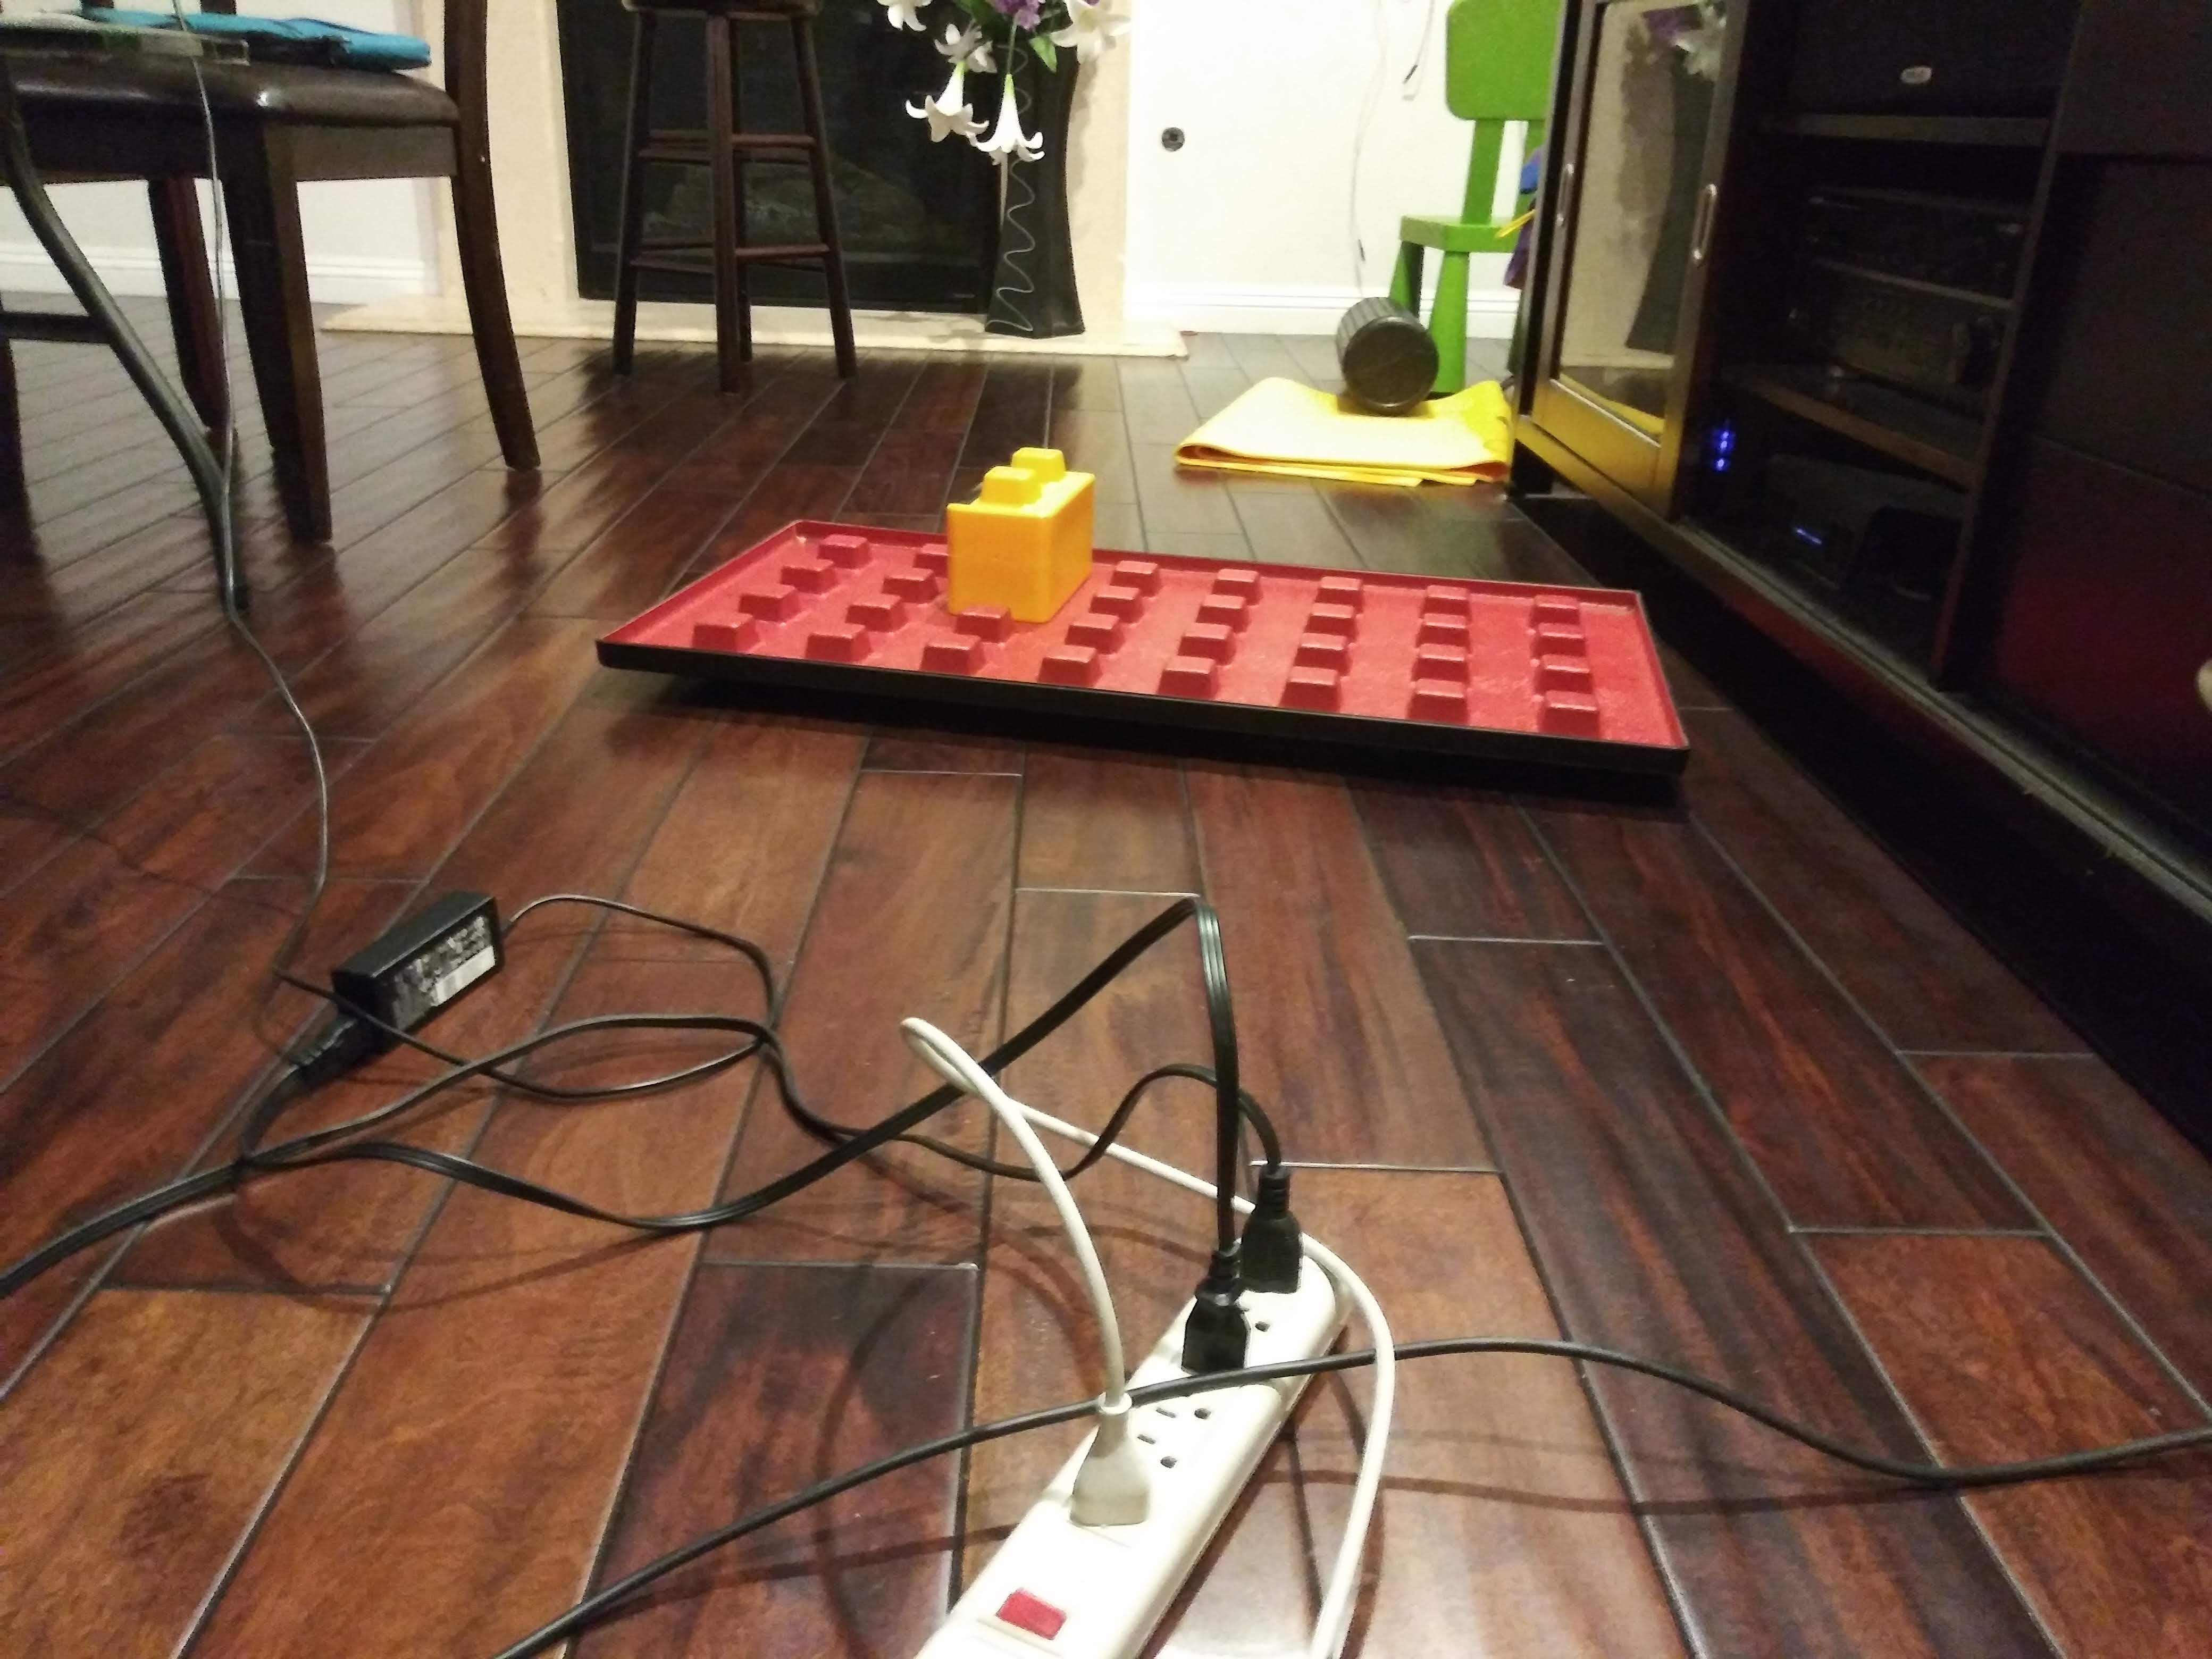red foundation: (575, 467, 1710, 826)
